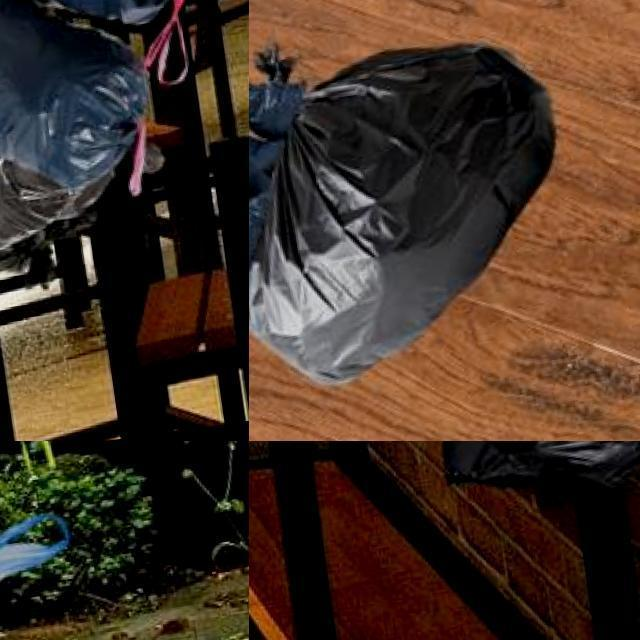waste: (249, 42, 586, 398), (0, 0, 157, 213), (0, 0, 86, 293), (413, 441, 640, 522), (0, 441, 78, 640), (249, 65, 313, 147)
